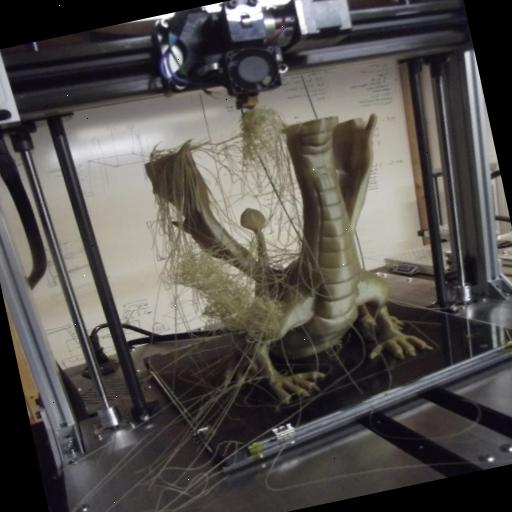spaghetti: (141, 226, 321, 377), (198, 96, 304, 220)
